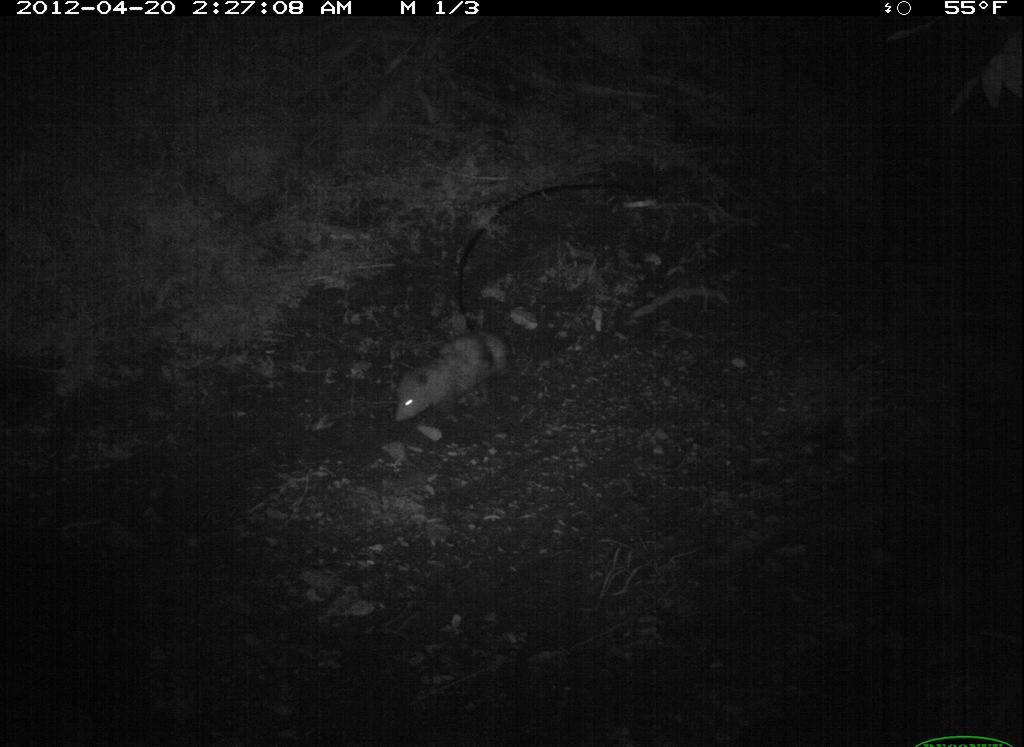opossum: (391, 319, 513, 432)
